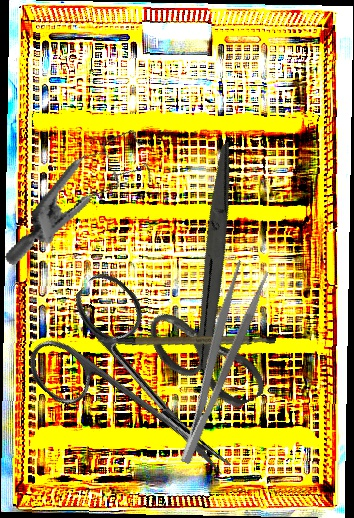Dressing Forceps: (159, 259, 273, 467)
Iris Scissors: (84, 141, 345, 429), (14, 265, 273, 517)
Scalpel Handle: (96, 309, 277, 368)
Speculum: (3, 103, 165, 298)
